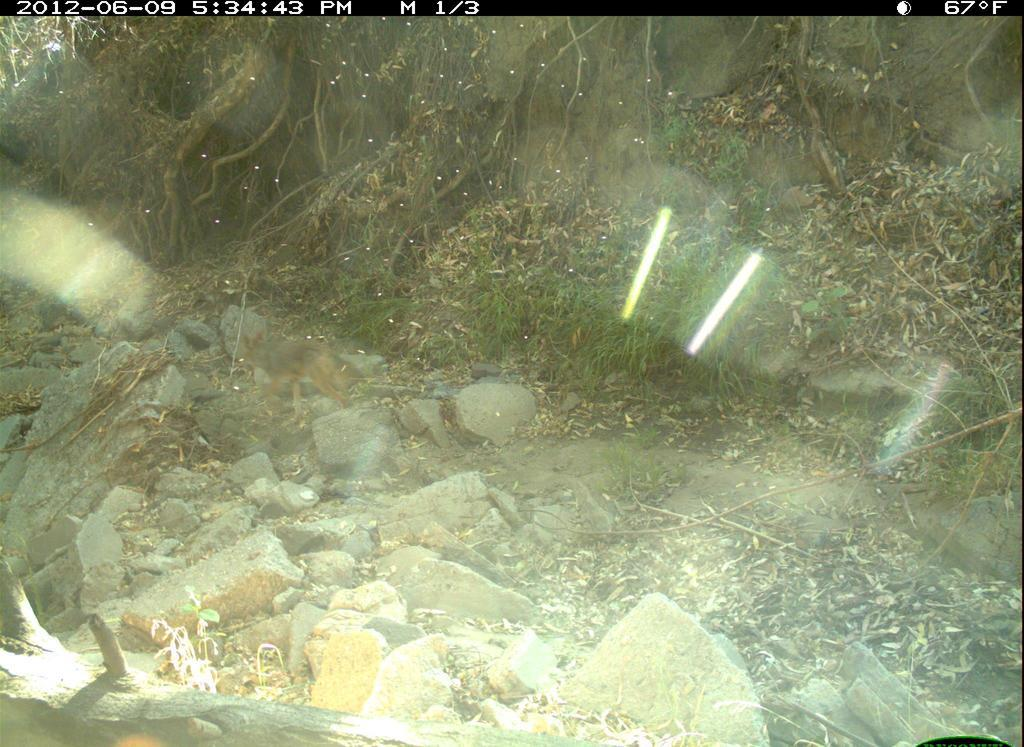coyote: (241, 318, 360, 431)
